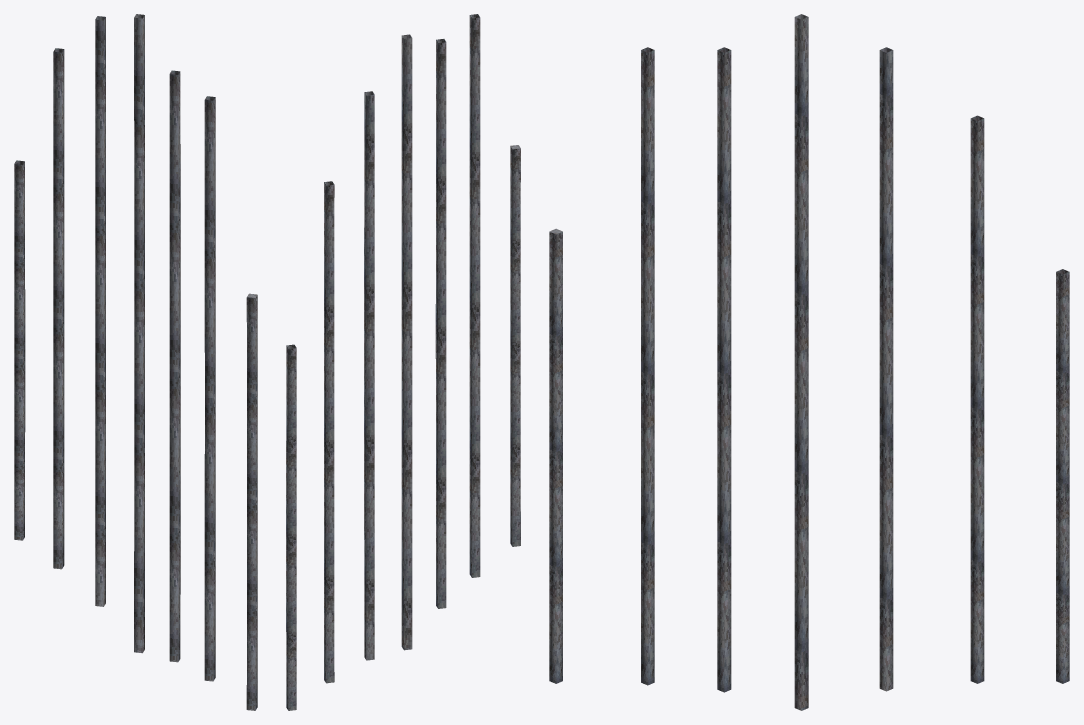
File: INST_EKH_OUBGATE.fbx
The picture shows the model from 3 angles, left to right: view 1: azimuth 30°, elevation 25°; view 2: azimuth 150°, elevation 25°; view 3: azimuth 270°, elevation 25°; orthographic projection. The views are drawn at different scales.
Visible parts, largest first — view 1: INST_EKH_OUBGATE; view 2: INST_EKH_OUBGATE; view 3: INST_EKH_OUBGATE.
Part boxes in pixels (x1=…): INST_EKH_OUBGATE: x1=14, y1=14, x2=257, y2=710; INST_EKH_OUBGATE: x1=286, y1=14, x2=520, y2=710; INST_EKH_OUBGATE: x1=549, y1=14, x2=1069, y2=710.
Size of the model in its own units: 606 by 33385 by 22776.
1 material, 1 textured.
